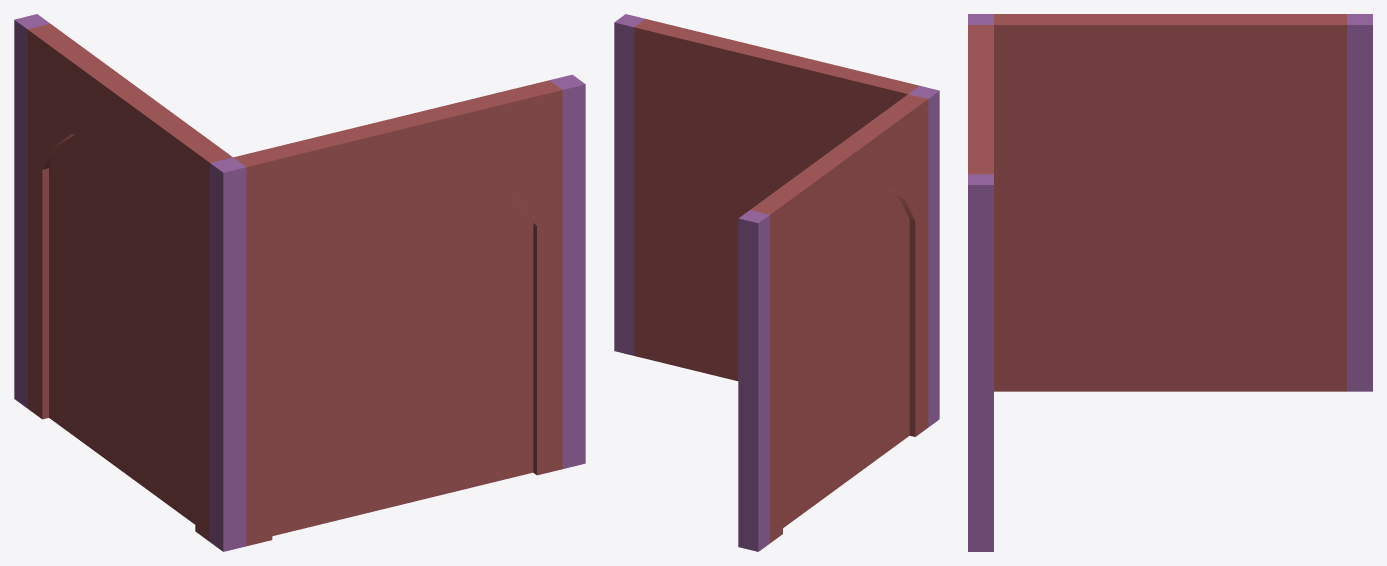
Rendered from celling_corner_02.fbx.
The picture shows the model from 3 angles, left to right: view 1: azimuth 30°, elevation 25°; view 2: azimuth 150°, elevation 25°; view 3: azimuth 270°, elevation 25°; orthographic projection. The views are drawn at different scales.
Visible parts, largest first — view 1: polySurface12, polySurface9, polySurface11, polySurface13, polySurface10; view 2: polySurface9, polySurface12, polySurface10, polySurface13, polySurface11; view 3: polySurface9, polySurface10, polySurface13, polySurface12.
Boxes of the visible parts, <box> form: polySurface12: <box>233,80,562,546</box>; polySurface9: <box>27,24,232,541</box>; polySurface11: <box>210,157,246,551</box>; polySurface13: <box>549,74,585,468</box>; polySurface10: <box>14,14,50,408</box>; polySurface9: <box>750,94,928,543</box>; polySurface12: <box>634,19,919,381</box>; polySurface10: <box>738,210,769,551</box>; polySurface13: <box>614,14,645,355</box>; polySurface11: <box>908,86,939,427</box>; polySurface9: <box>994,14,1346,391</box>; polySurface10: <box>1347,14,1372,391</box>; polySurface13: <box>968,174,993,551</box>; polySurface12: <box>968,25,993,174</box>.
Bounding box in the file's own units: 1 × 1 × 1.
